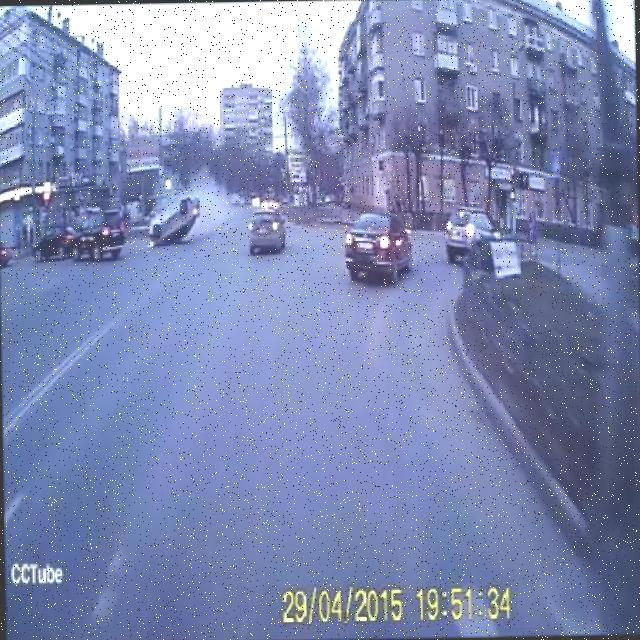accident: (136, 177, 203, 252)
